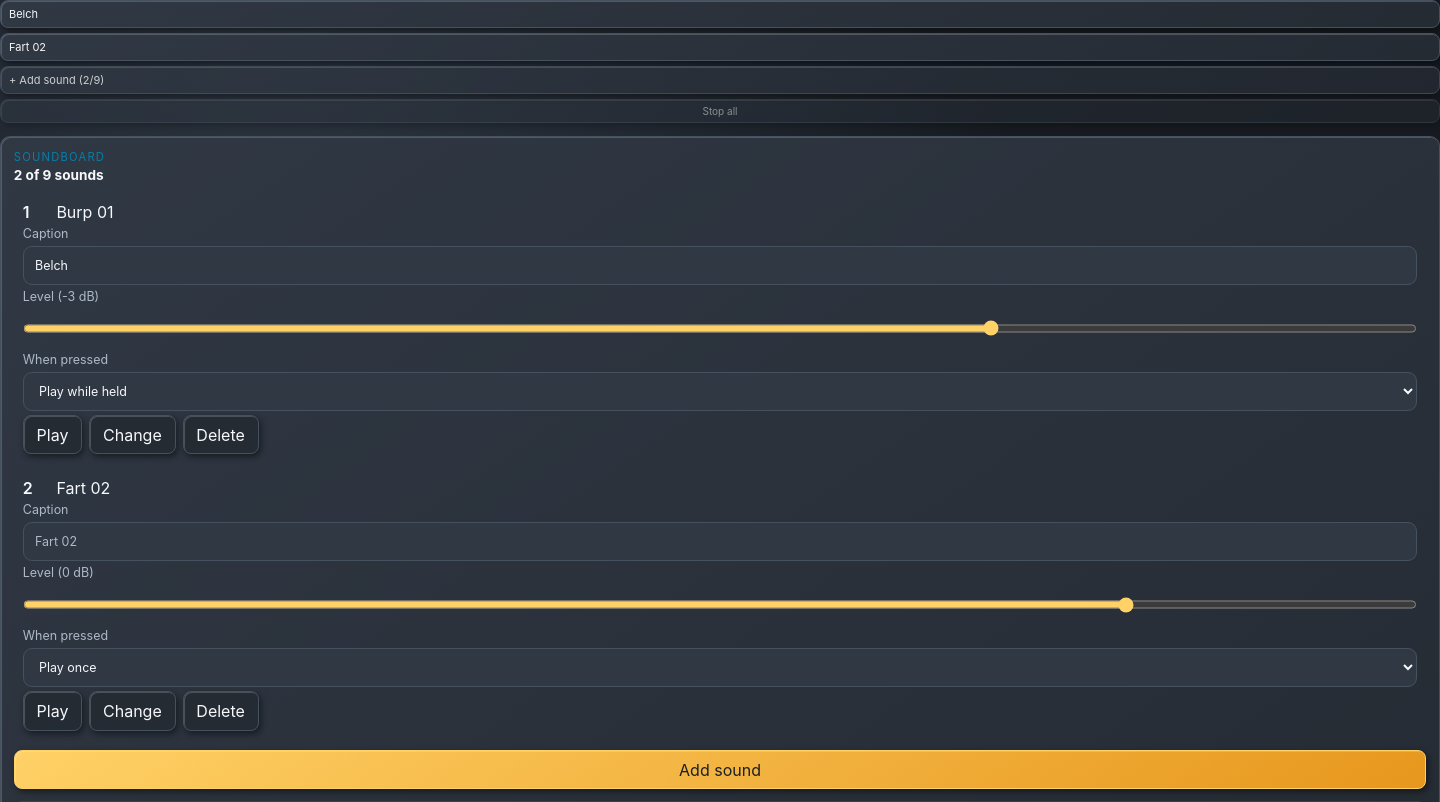
Test: choosing and replacing sounds › Delete removes every setting of the slot and the card button
The image size is (1440, 802).
Click the button with aria-label "Delete sound 1". click: (221, 434)
box: [183, 415, 259, 454]
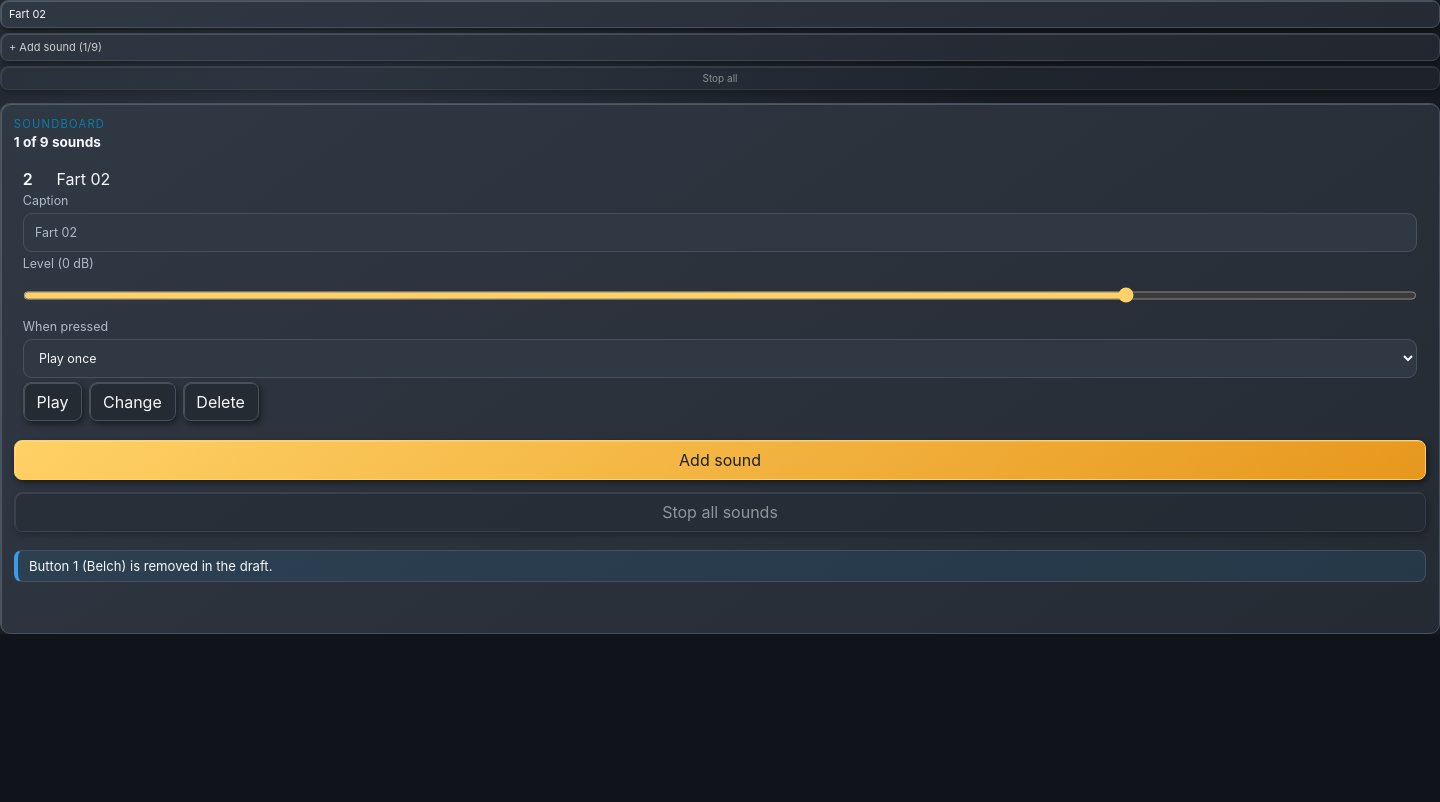
Result: the button "Play Belch" is gone
